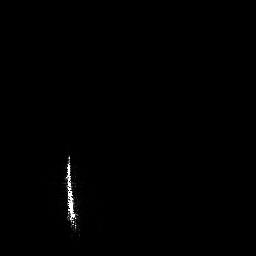ship: (62, 154, 81, 239)
